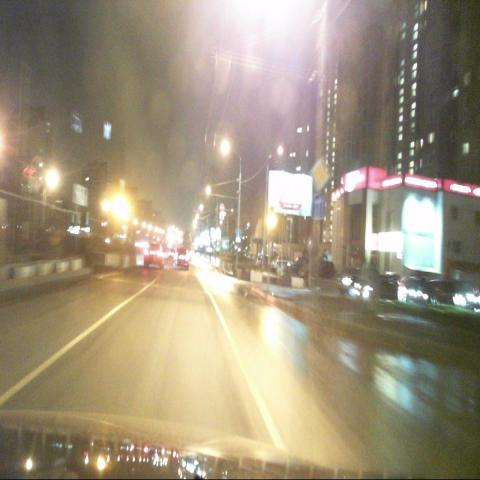4_1_1: (312, 193, 326, 219)
